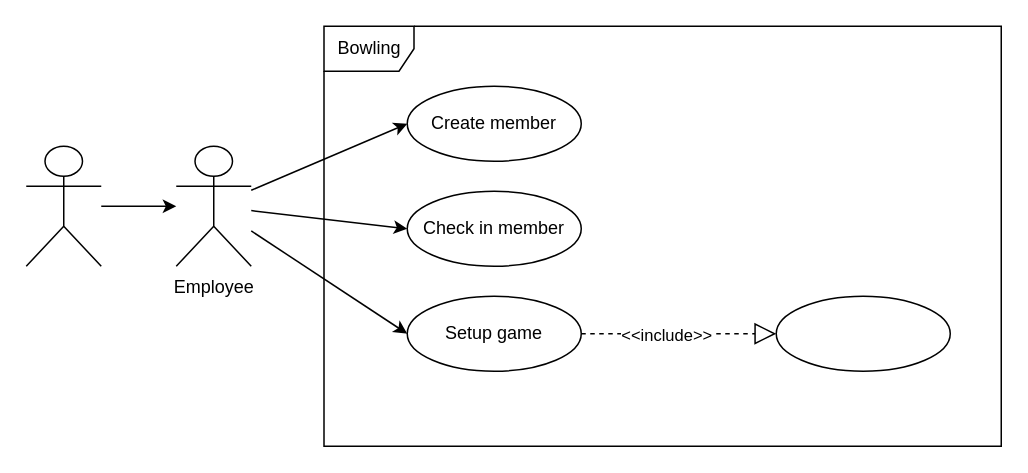
Image size: 1028x473. Some labels were removed from this diagram. Each missing label, with the centre of its shape:
Determine winner: point (862, 333)
Member: point (63, 205)
